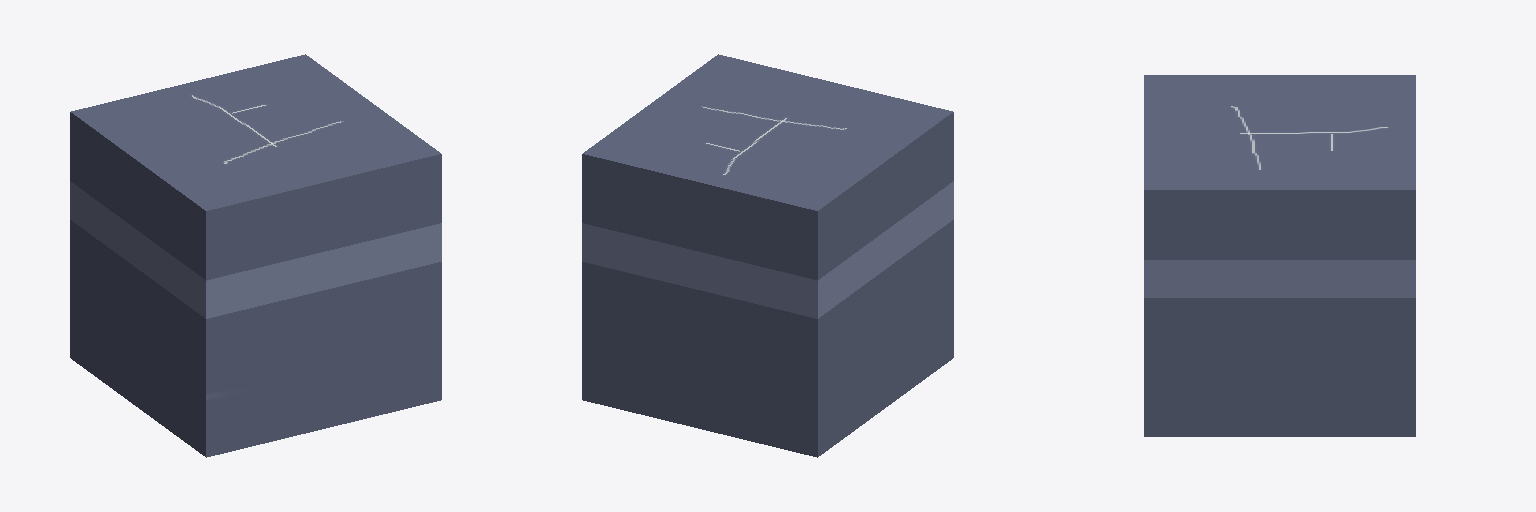
3 renders of one model, left to right at view 1: azimuth 30°, elevation 25°; view 2: azimuth 150°, elevation 25°; view 3: azimuth 270°, elevation 25°, orthographic.
Parts seen in each view (by area): view 1: Cube; view 2: Cube; view 3: Cube.
Boxes of the visible parts, x1,y1,x2,y2 form: Cube: [70, 54, 441, 457]; Cube: [582, 54, 953, 457]; Cube: [1144, 75, 1415, 436].
Size of the model in its own units: 2 by 2 by 2.
Materials: 1 (1 with a texture image).